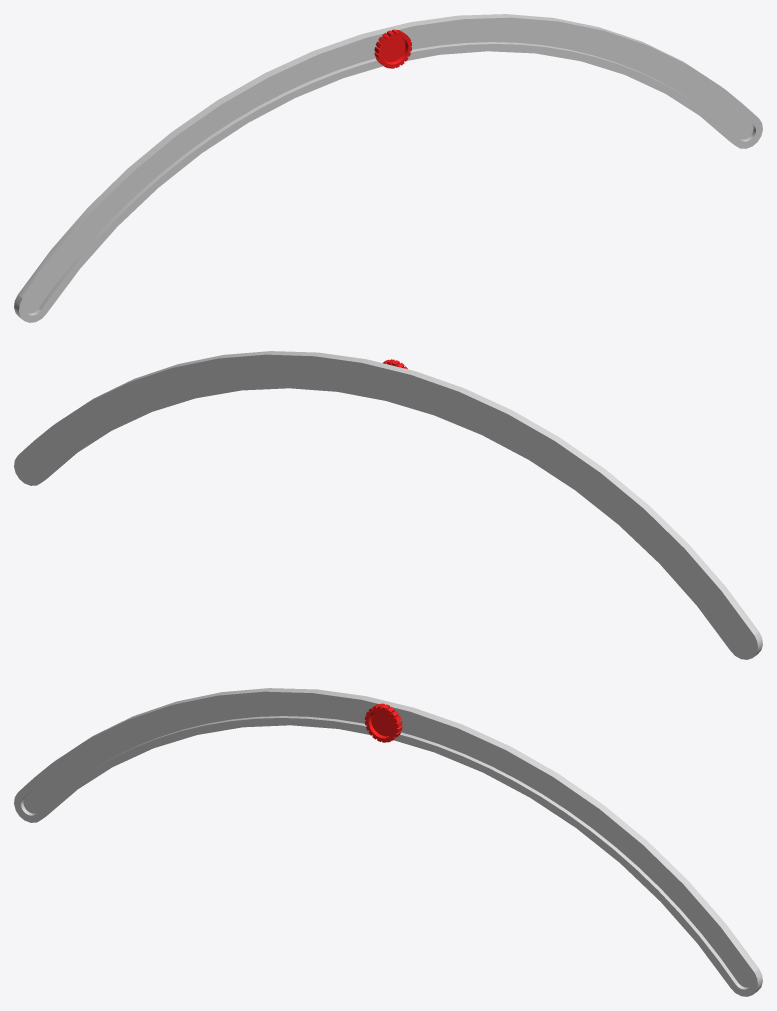
The model's file is Dial(Fixed).fbx.
3 views of the same model, one above another, from view 1: azimuth 30°, elevation 25°; view 2: azimuth 150°, elevation 25°; view 3: azimuth 330°, elevation 25° (orthographic).
Parts seen in each view (by area): view 1: Object_1_2, Object_1; view 2: Object_1_2; view 3: Object_1_2, Object_1.
Part boxes in pixels (x1,y1,x2,y2): Object_1_2: (14, 14, 762, 322); Object_1: (374, 29, 411, 68); Object_1_2: (14, 351, 762, 659); Object_1_2: (14, 688, 762, 996); Object_1: (364, 703, 402, 742).
Size of the model in its own units: 21.76 by 5.75 by 0.4738.
